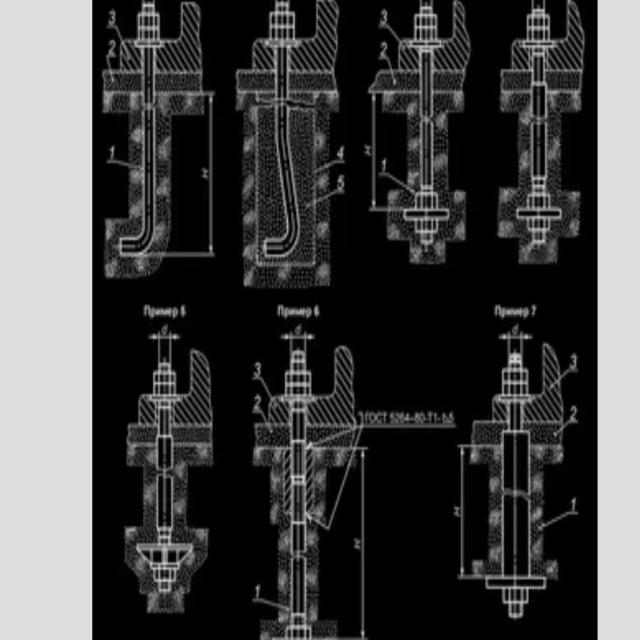marking_line: (171, 114, 213, 259), (306, 461, 352, 531), (356, 445, 368, 640), (368, 94, 387, 213), (204, 91, 214, 259), (459, 443, 471, 581), (149, 334, 181, 363), (500, 332, 532, 354), (251, 595, 290, 613), (544, 512, 577, 528), (282, 334, 315, 349)
numeric: (252, 361, 262, 377), (337, 143, 345, 161), (254, 394, 262, 411), (380, 9, 388, 25), (530, 302, 537, 320), (108, 37, 115, 55), (360, 411, 369, 425), (109, 9, 116, 26), (376, 411, 384, 424), (570, 406, 576, 423), (570, 497, 577, 511), (571, 354, 577, 370), (161, 325, 169, 337), (420, 412, 428, 424), (369, 412, 377, 424), (109, 145, 116, 158), (382, 43, 387, 61), (338, 174, 346, 185), (390, 413, 398, 424), (181, 302, 186, 319), (448, 412, 455, 424), (397, 413, 404, 424), (314, 306, 320, 318), (404, 413, 411, 423), (415, 411, 420, 425), (428, 412, 433, 424), (382, 160, 387, 171), (443, 413, 448, 424), (383, 411, 387, 424), (434, 413, 438, 424), (437, 415, 440, 423)
